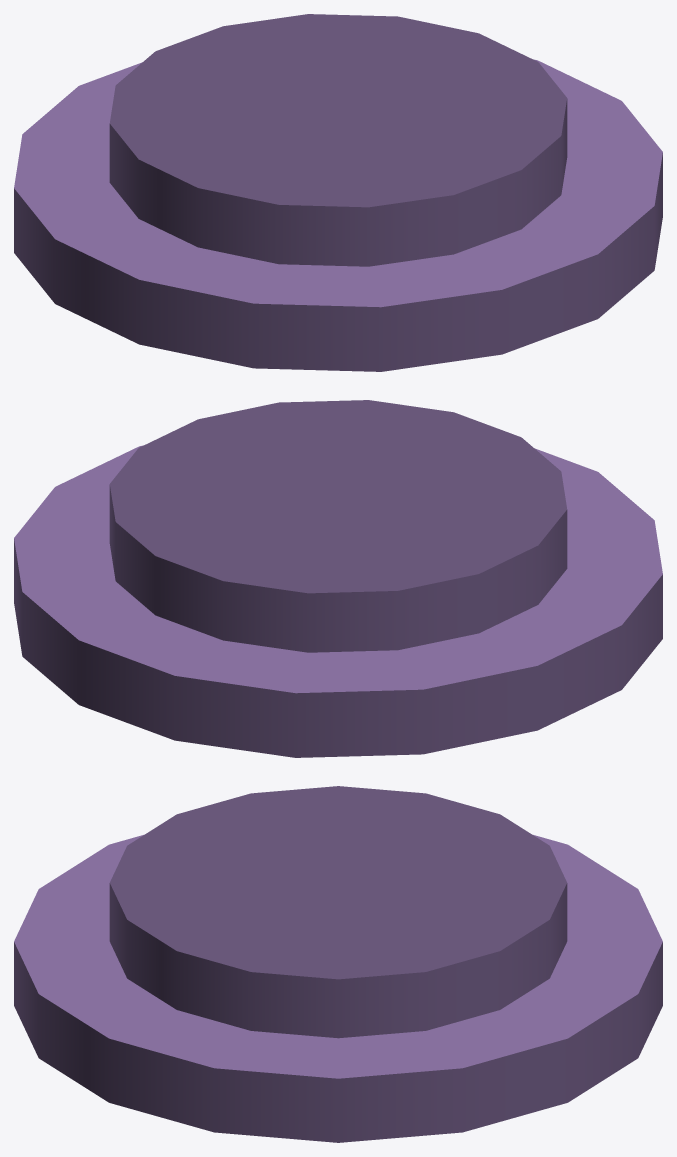
The model's file is platform.fbx.
3 renders of one model, top to bottom at view 1: azimuth 30°, elevation 25°; view 2: azimuth 150°, elevation 25°; view 3: azimuth 270°, elevation 25°, orthographic.
Parts seen in each view (by area): view 1: platform; view 2: platform; view 3: platform.
Part boxes in pixels (bbox=[...]): platform: bbox=[14, 14, 662, 371]; platform: bbox=[14, 400, 662, 757]; platform: bbox=[14, 786, 662, 1142].
Bounding box in the file's own units: 1.57 × 0.3285 × 1.57.
